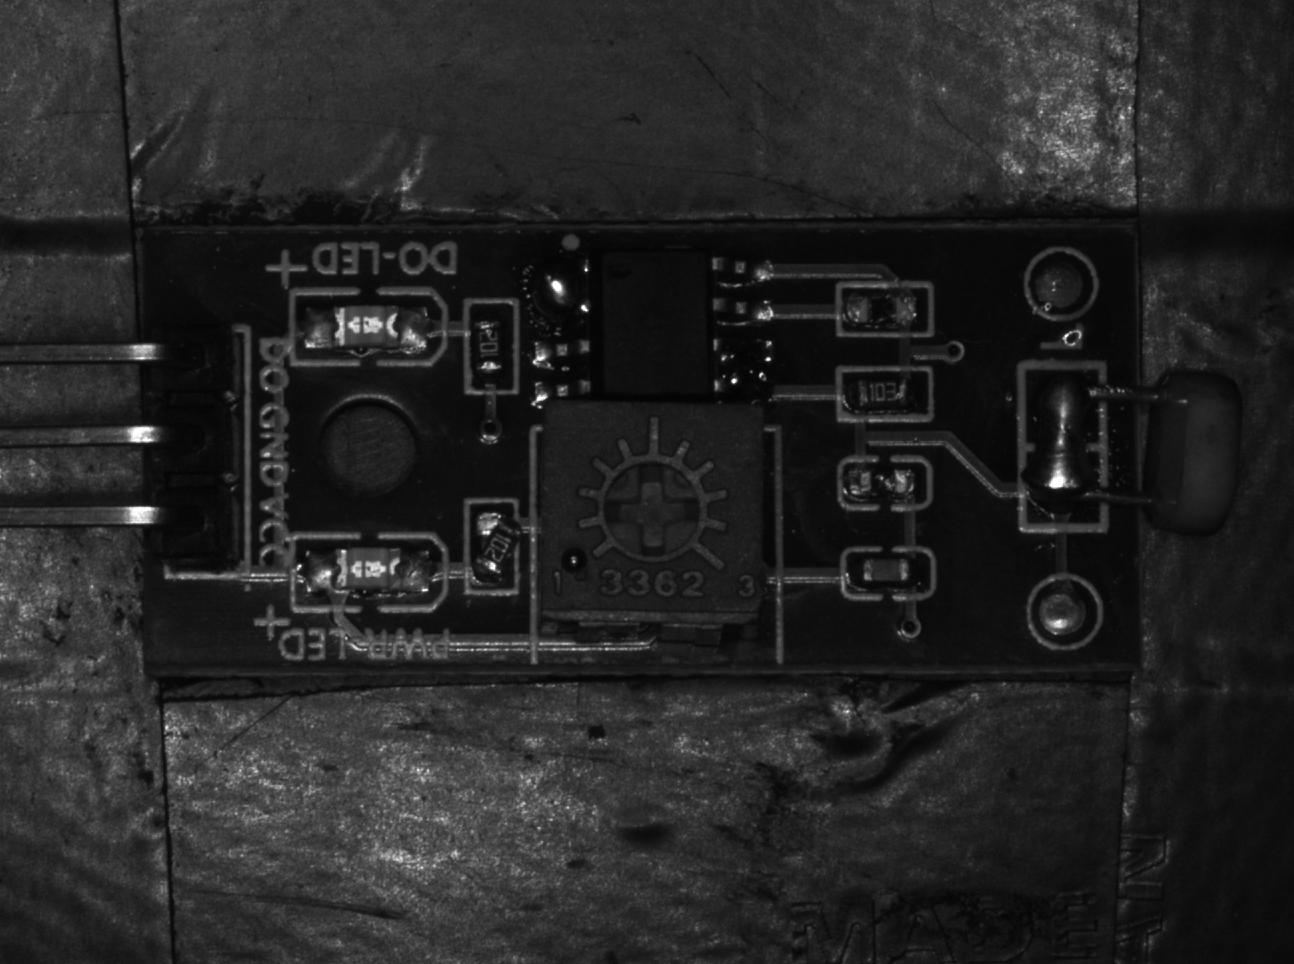bridge: (708, 330, 789, 403), (525, 261, 593, 338)
lifted: (464, 499, 523, 595)
miss: (837, 286, 934, 337), (835, 459, 929, 508)
ok: (838, 366, 931, 425), (843, 546, 935, 600), (466, 297, 514, 391)
